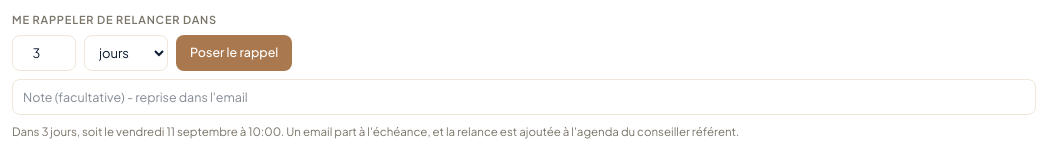
RappelForm › compte les mois sur le calendrier, pas en jours
The image size is (1048, 160).
Select "mois" in the dropdown named "Unité" at (126, 52), box [84,34,168,70]
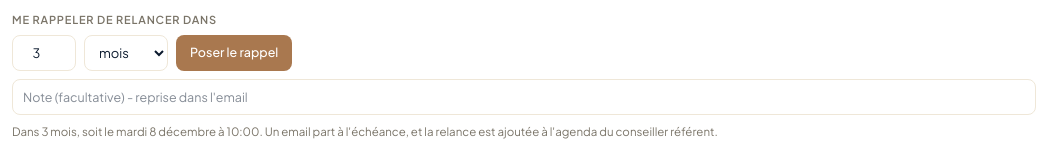
Replace the text in the number field named "Délai" with "2" at (44, 52), box [12,34,76,70]
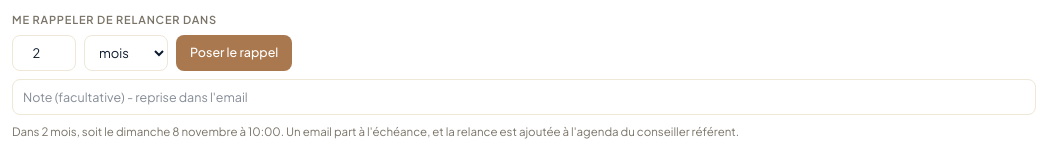
Check: the text "8 novembre" is shown, box [116,124,281,138]
